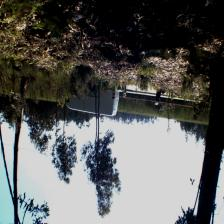trunktrack_idkeyframe: (201, 85, 223, 206), (6, 68, 23, 197)
